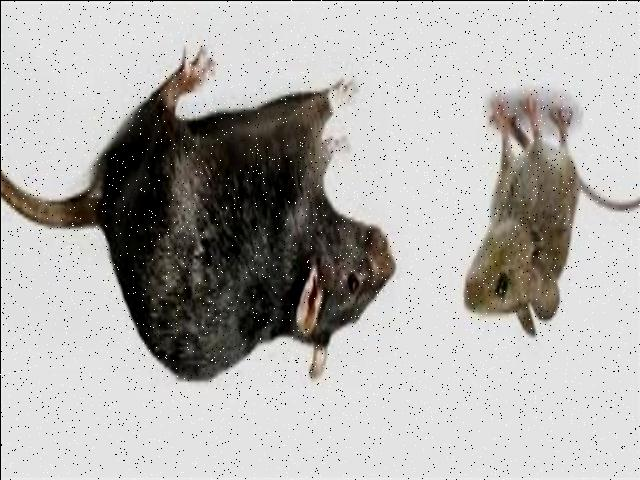Tikus: (0, 51, 395, 382), (460, 92, 638, 336)
